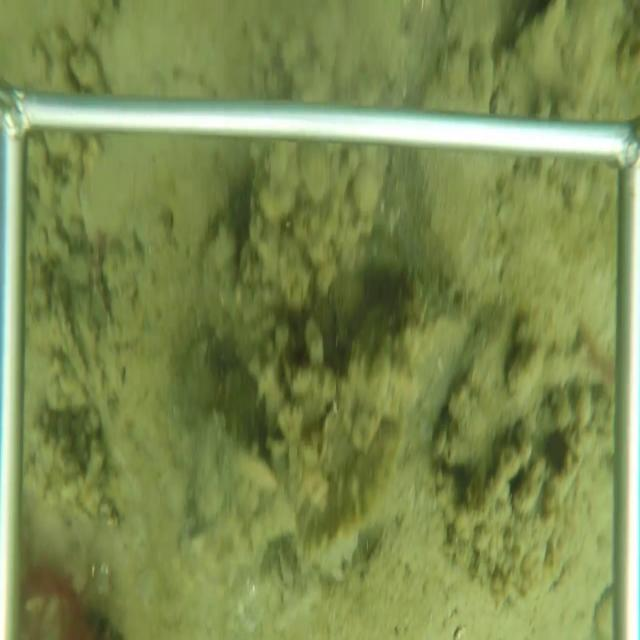Oyster-Closed: (54, 272, 97, 408)
